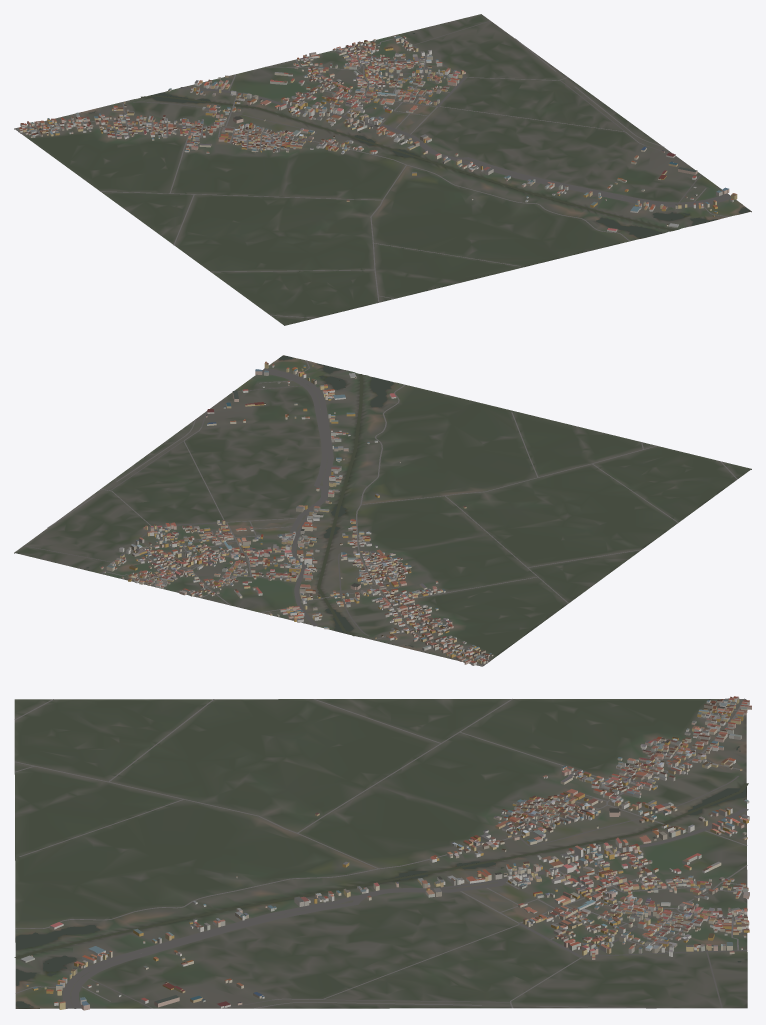
3 renders of one model, top to bottom at view 1: azimuth 30°, elevation 25°; view 2: azimuth 150°, elevation 25°; view 3: azimuth 270°, elevation 25°, orthographic. The views are drawn at different scales.
Parts seen in each view (by area): view 1: ground, buildings, roads, water; view 2: ground, buildings, roads, water; view 3: ground, buildings, roads, water.
Part boxes in pixels (x1,y1,x2,y2): ground: [14, 14, 751, 325]; buildings: [18, 35, 737, 232]; roads: [14, 20, 730, 318]; water: [88, 33, 749, 237]; ground: [14, 355, 751, 666]; buildings: [101, 361, 493, 665]; roads: [23, 360, 737, 666]; water: [86, 356, 413, 647]; ground: [14, 699, 747, 1008]; buildings: [20, 696, 751, 1010]; roads: [14, 698, 748, 1008]; water: [14, 746, 748, 1008].
Bounding box in the file's own units: 1415 × 19.29 × 1413.
